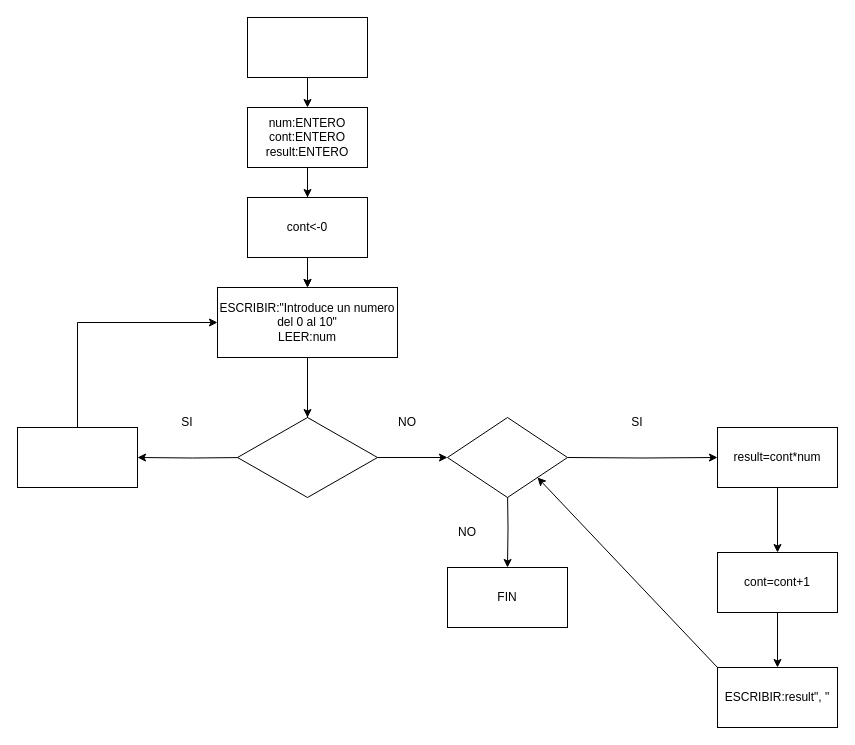
The diagram is 855 pixels wide and 745 high, and some of its shapes have lost their labels. The shapes that lost their labels are listed below. From the top down, each one's centre as x and y in pixels, then its label:
point (307, 47): INICIO
point (77, 457): ESCRIBIR:"Número inválido"
point (307, 457): num>10 OR num<0
point (507, 457): cont<=10
